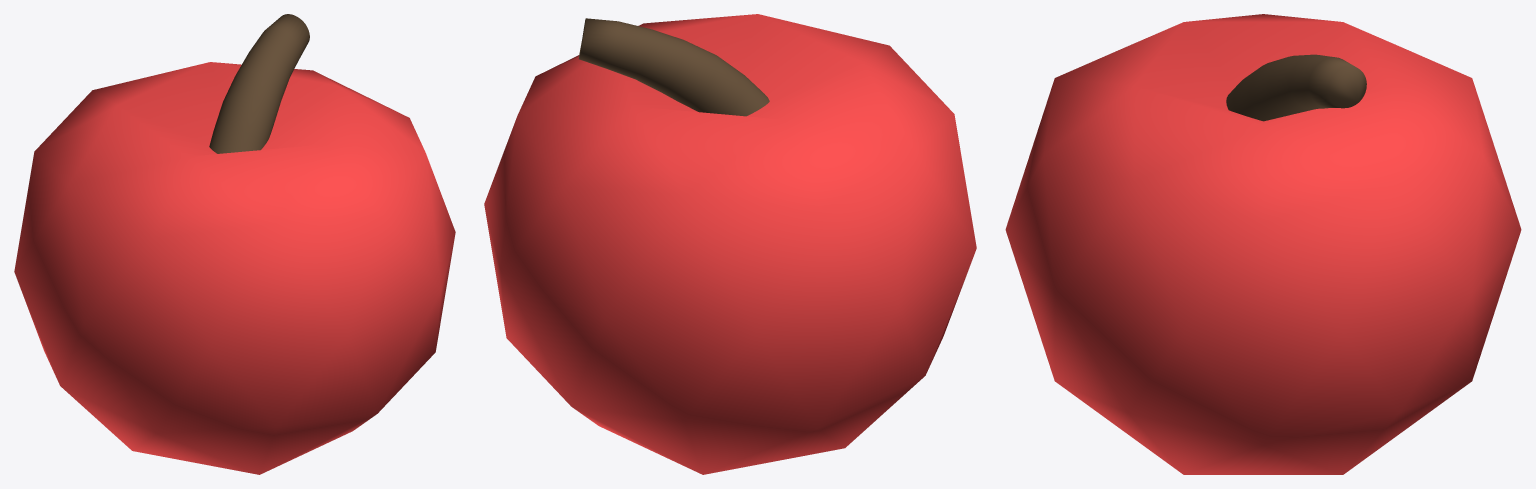
File: Apple.fbx
3 views of the same model, side by side, from view 1: azimuth 30°, elevation 25°; view 2: azimuth 150°, elevation 25°; view 3: azimuth 270°, elevation 25° (orthographic). The views are drawn at different scales.
Visible parts, largest first — view 1: Icosphere, Cylinder.001; view 2: Icosphere, Cylinder.001; view 3: Icosphere, Cylinder.001.
Part boxes in pixels (bbox=[...]): Icosphere: bbox=[14, 62, 455, 474]; Cylinder.001: bbox=[209, 14, 309, 153]; Icosphere: bbox=[484, 14, 976, 474]; Cylinder.001: bbox=[578, 18, 769, 116]; Icosphere: bbox=[1005, 14, 1521, 474]; Cylinder.001: bbox=[1226, 54, 1366, 121].
Bounding box in the file's own units: 190 × 192 × 200.
